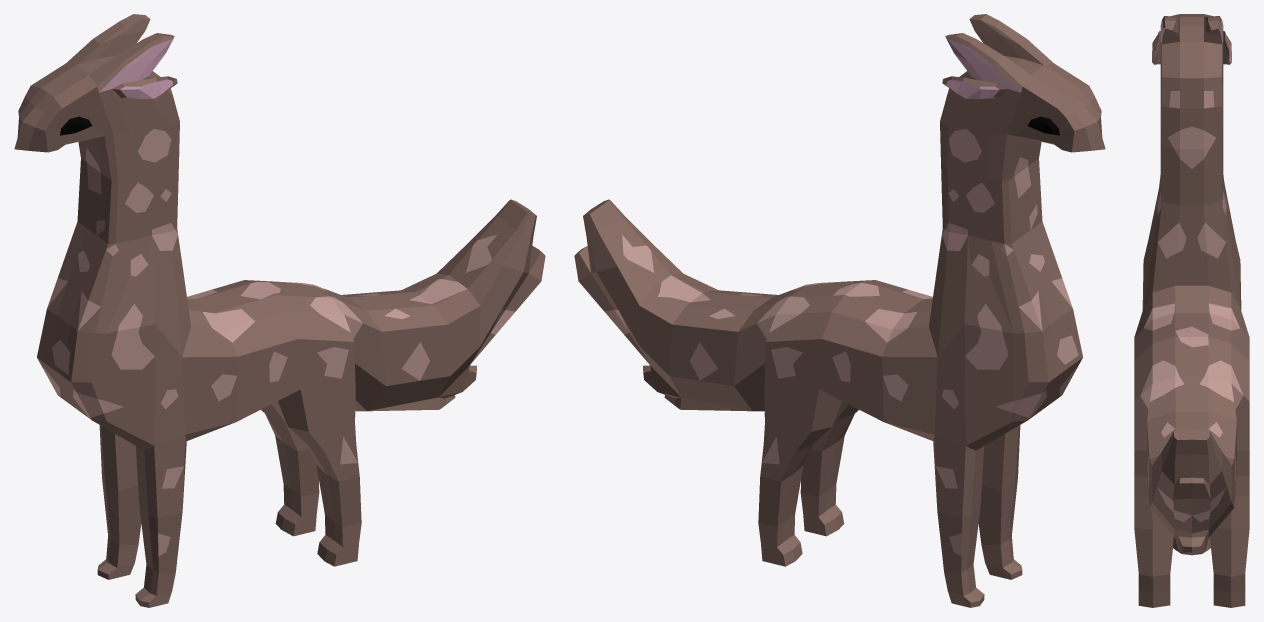
The model's file is Rye.fbx.
The picture shows the model from 3 angles, left to right: view 1: azimuth 30°, elevation 25°; view 2: azimuth 150°, elevation 25°; view 3: azimuth 270°, elevation 25°; orthographic projection. The views are drawn at different scales.
Parts seen in each view (by area): view 1: Plane; view 2: Plane; view 3: Plane.
Part boxes in pixels (<box>): Plane: <box>14,14,545,607</box>; Plane: <box>574,14,1105,607</box>; Plane: <box>1134,14,1249,607</box>.
Bounding box in the file's own units: 182 × 185 × 38.29.
